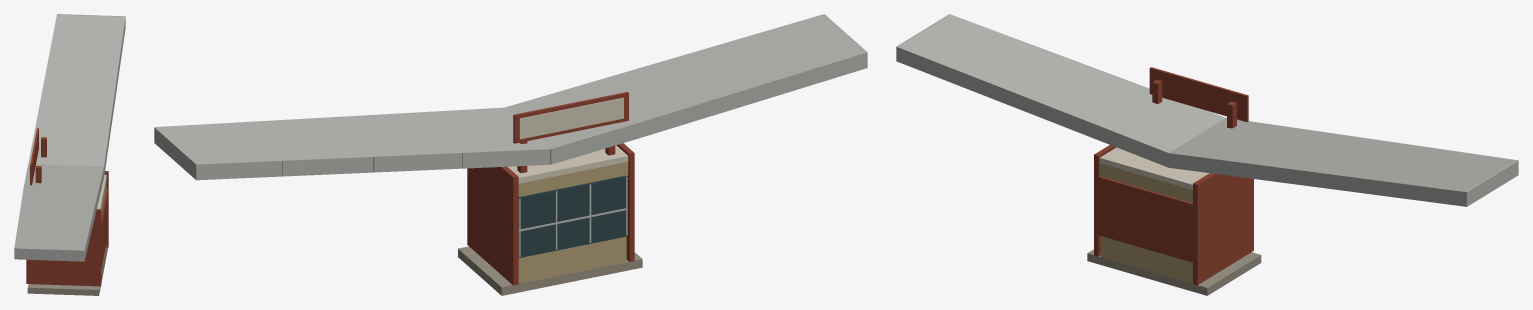
File: main_gate_lod0.glb
3 renders of one model, left to right at view 1: azimuth 30°, elevation 25°; view 2: azimuth 150°, elevation 25°; view 3: azimuth 270°, elevation 25°, orthographic. The views are drawn at different scales.
Parts seen in each view (by area): view 1: Silver, Wine, Paving, Ivory, Ochre; view 2: Silver, Wine, GlassLobby, Ochre, Ivory, Paving; view 3: Silver, Wine, Ochre, Paving, Ivory.
Part boxes in pixels (box(x1,y1,x2,y2)): Silver: box(14, 14, 125, 261); Wine: box(26, 128, 108, 286); Paving: box(27, 248, 107, 295); Ivory: box(29, 133, 106, 208); Ochre: box(101, 180, 106, 276); Silver: box(154, 14, 867, 257); Wine: box(467, 92, 634, 285); GlassLobby: box(518, 175, 626, 257); Ochre: box(518, 162, 628, 283); Ivory: box(508, 97, 628, 183); Paving: box(458, 246, 642, 295); Silver: box(896, 14, 1518, 206); Wine: box(1094, 67, 1253, 285); Ochre: box(1099, 163, 1192, 283); Paving: box(1087, 249, 1261, 295); Ivory: box(1099, 147, 1209, 189).
Bounding box in the file's own units: 15.1 × 6.33 × 20.01.
